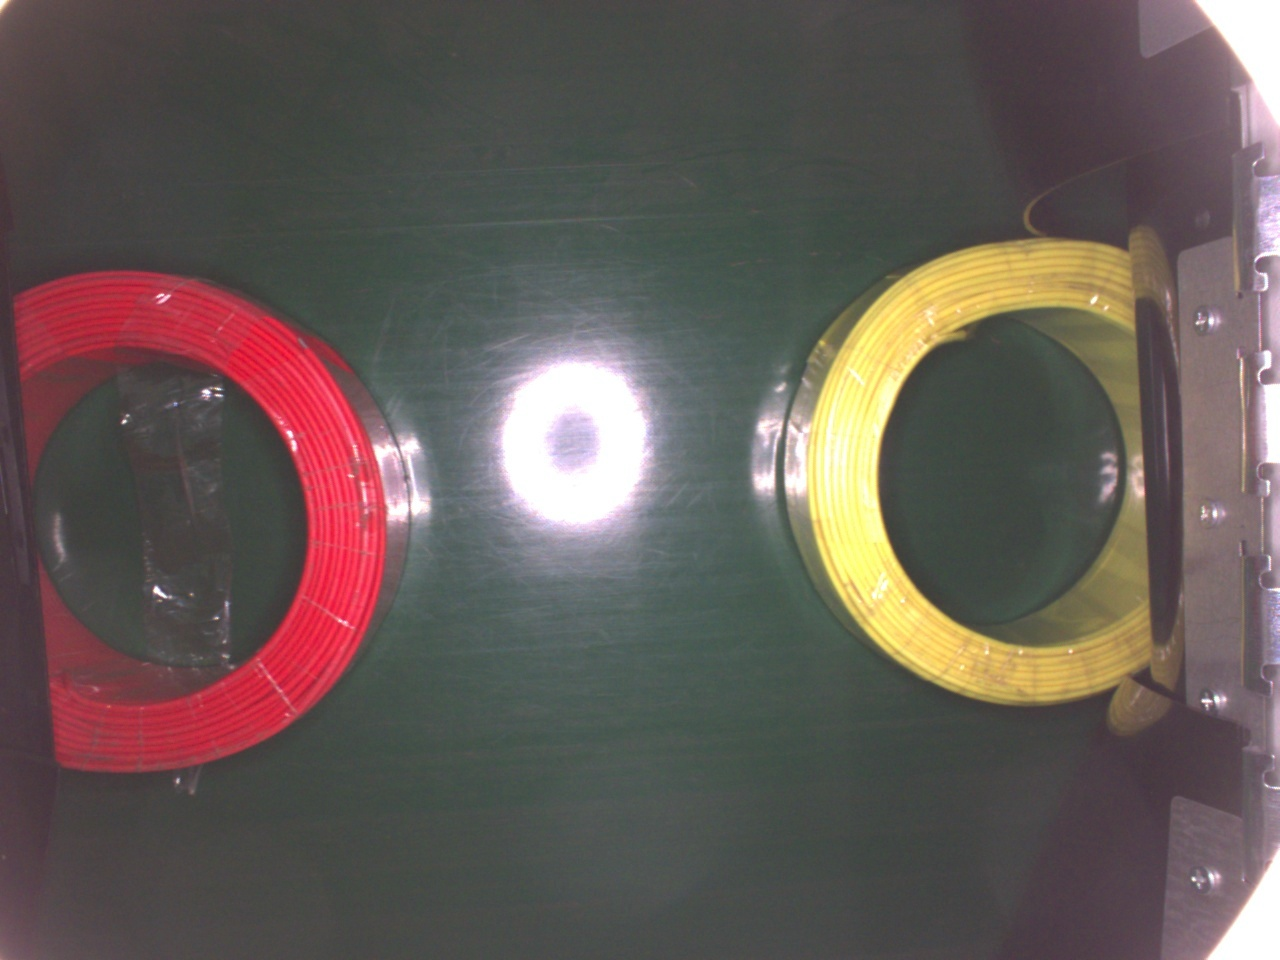red: (0, 268, 413, 775)
yellow: (780, 233, 1151, 716)
